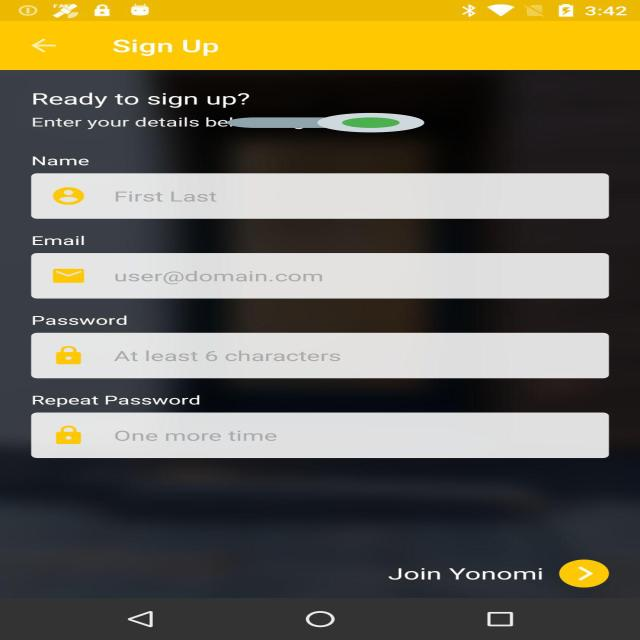social proof: (227, 104, 424, 140)
